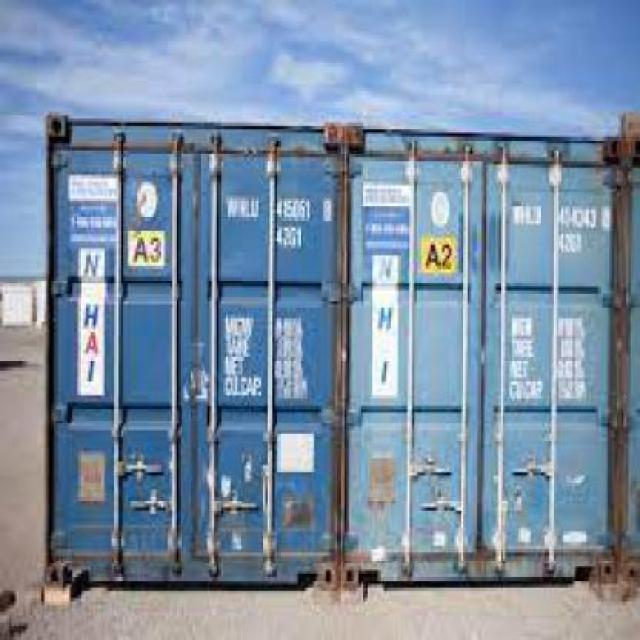ISO: (557, 230, 592, 256), (278, 225, 307, 248)
container_number: (223, 198, 333, 220), (512, 204, 608, 226)
